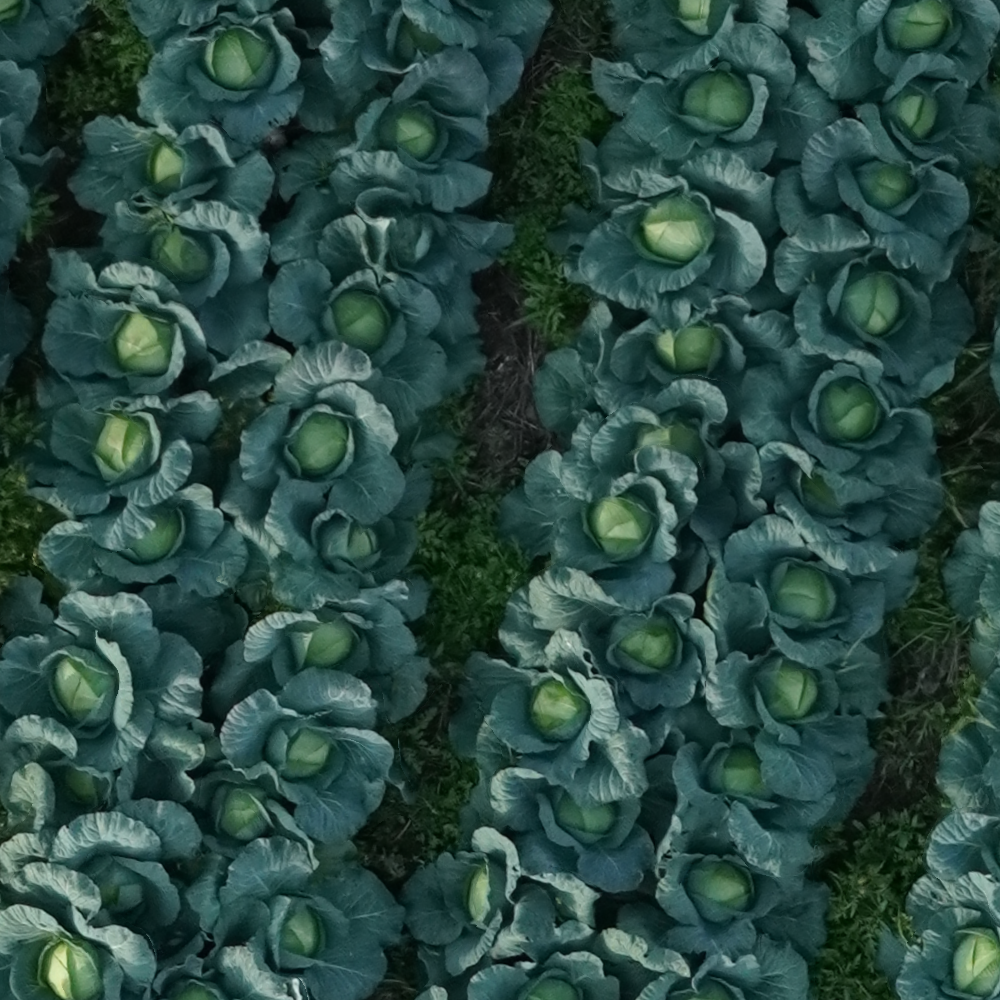Cabbage: (0, 577, 245, 803), (271, 146, 516, 348), (590, 8, 840, 198), (547, 137, 789, 333), (267, 217, 482, 429), (0, 764, 205, 967), (703, 584, 889, 806), (44, 246, 293, 411), (698, 484, 919, 668), (775, 213, 996, 396), (535, 348, 765, 523), (223, 337, 405, 558), (194, 669, 416, 846), (739, 312, 936, 503), (275, 50, 495, 215), (451, 630, 651, 810), (188, 837, 406, 1000), (503, 443, 708, 611), (499, 566, 716, 714), (403, 810, 596, 976), (623, 807, 830, 960), (215, 578, 433, 722), (676, 704, 846, 888), (774, 119, 969, 276), (79, 200, 272, 357), (136, 11, 355, 147), (24, 369, 221, 520), (472, 755, 686, 894), (238, 464, 435, 612), (754, 437, 944, 578), (30, 479, 248, 597), (320, 0, 525, 113), (69, 116, 275, 220), (0, 863, 156, 1000), (580, 295, 752, 412), (806, 0, 1000, 99), (194, 769, 355, 879), (854, 53, 999, 170), (607, 0, 791, 83), (878, 874, 1000, 999), (593, 929, 806, 1000), (154, 897, 295, 999), (1, 714, 131, 824), (466, 950, 625, 1000)
